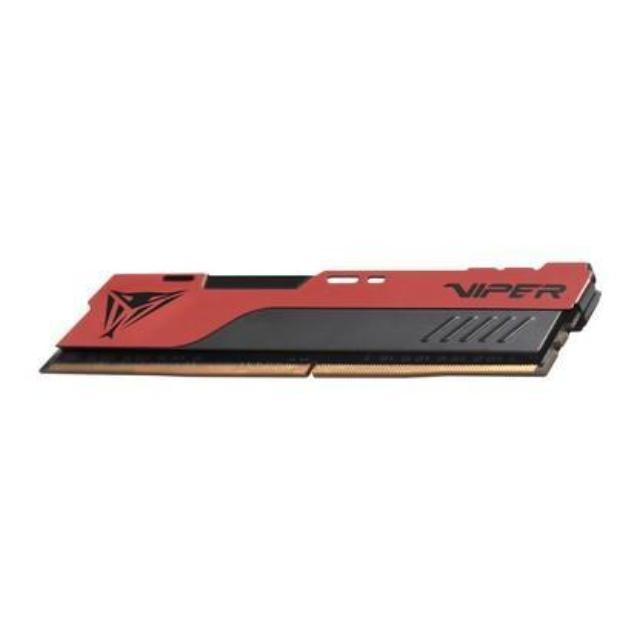RAM: (32, 256, 606, 390)
